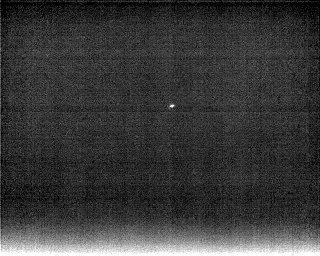BIRD: (167, 102, 176, 110)
